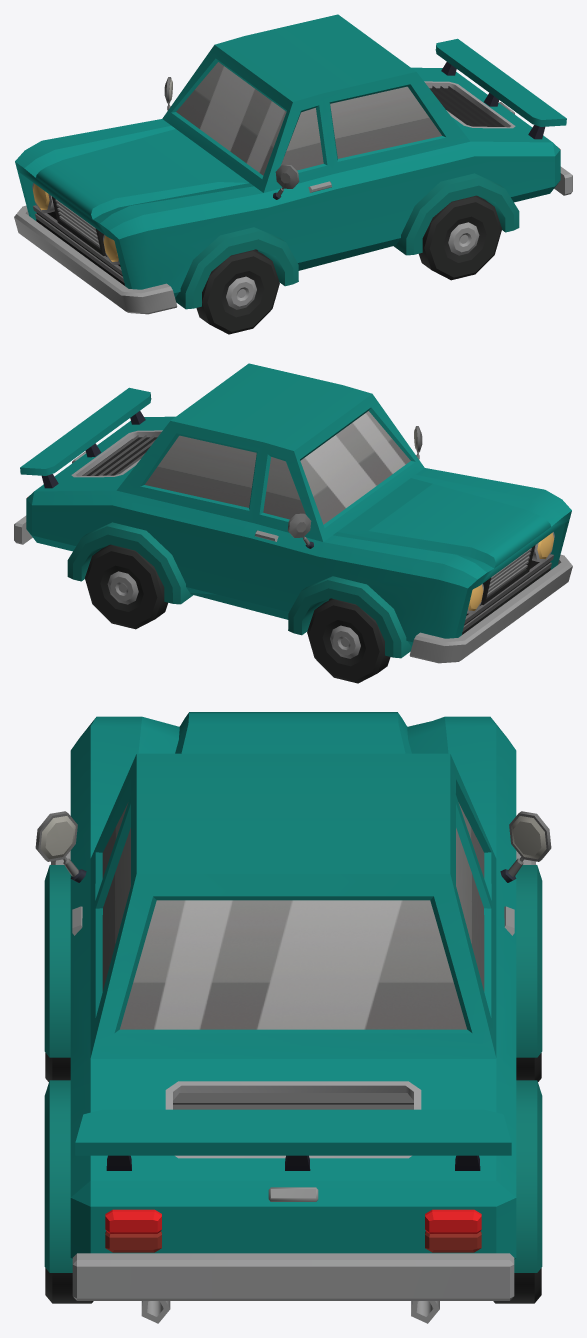
File: Car_9_E.gltf
3 views of the same model, one above another, from view 1: azimuth 30°, elevation 25°; view 2: azimuth 150°, elevation 25°; view 3: azimuth 270°, elevation 25° (orthographic). The views are drawn at different scales.
Parts seen in each view (by area): view 1: Car_9_E, RL, FL; view 2: Car_9_E, RR, FR; view 3: Car_9_E, RL, RR.
Part boxes in pixels (box(x1,y1,x2,y2)): Car_9_E: box(14, 14, 572, 314); RL: box(419, 195, 501, 280); FL: box(196, 249, 279, 334); Car_9_E: box(14, 363, 572, 663); RR: box(85, 544, 167, 629); FR: box(307, 598, 390, 683); Car_9_E: box(35, 712, 551, 1323); RL: box(45, 1268, 93, 1303); RR: box(493, 1268, 541, 1303).
Bounding box in the file's own units: 3.1 × 1.28 × 1.51.
Materials: 4 (4 with a texture image).
